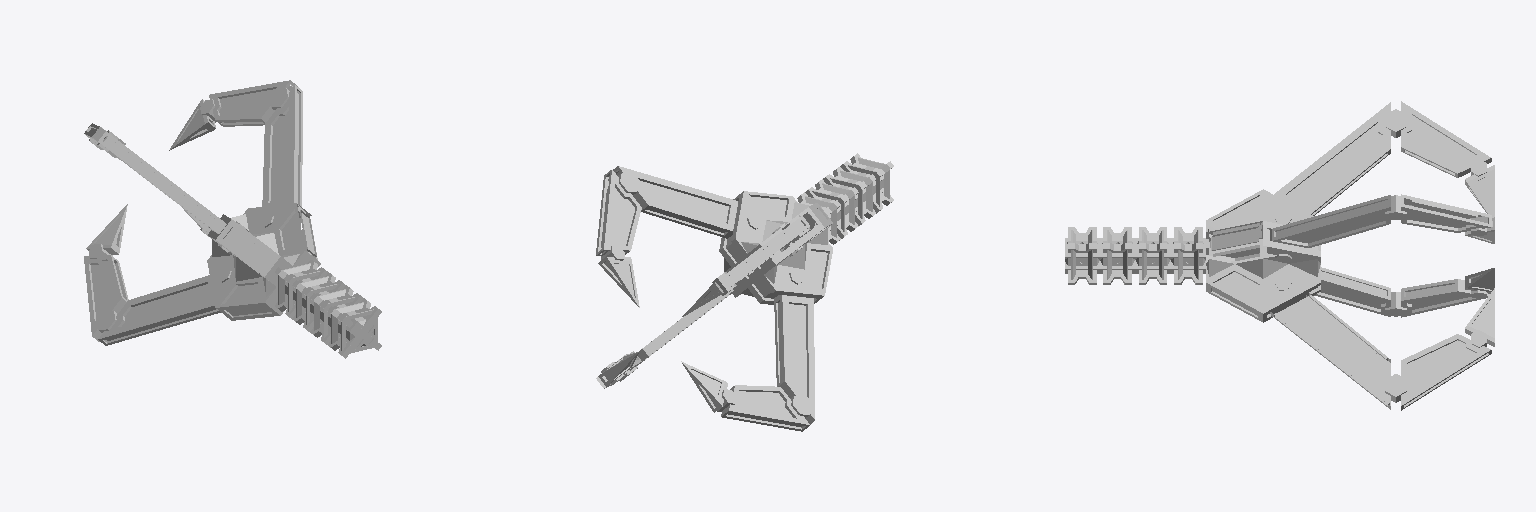
Rendered from zatvorena_kandza.obj.
3 views of the same model, side by side, from view 1: azimuth 30°, elevation 25°; view 2: azimuth 150°, elevation 25°; view 3: azimuth 270°, elevation 25° (orthographic).
Visible parts, largest first — view 1: mmGroup0; view 2: mmGroup0; view 3: mmGroup0.
Boxes of the visible parts, x1,y1,x2,y2 form: mmGroup0: [84, 80, 381, 358]; mmGroup0: [596, 153, 893, 431]; mmGroup0: [1065, 101, 1494, 410].
Size of the model in its own units: 45.01 by 45.01 by 81.25.